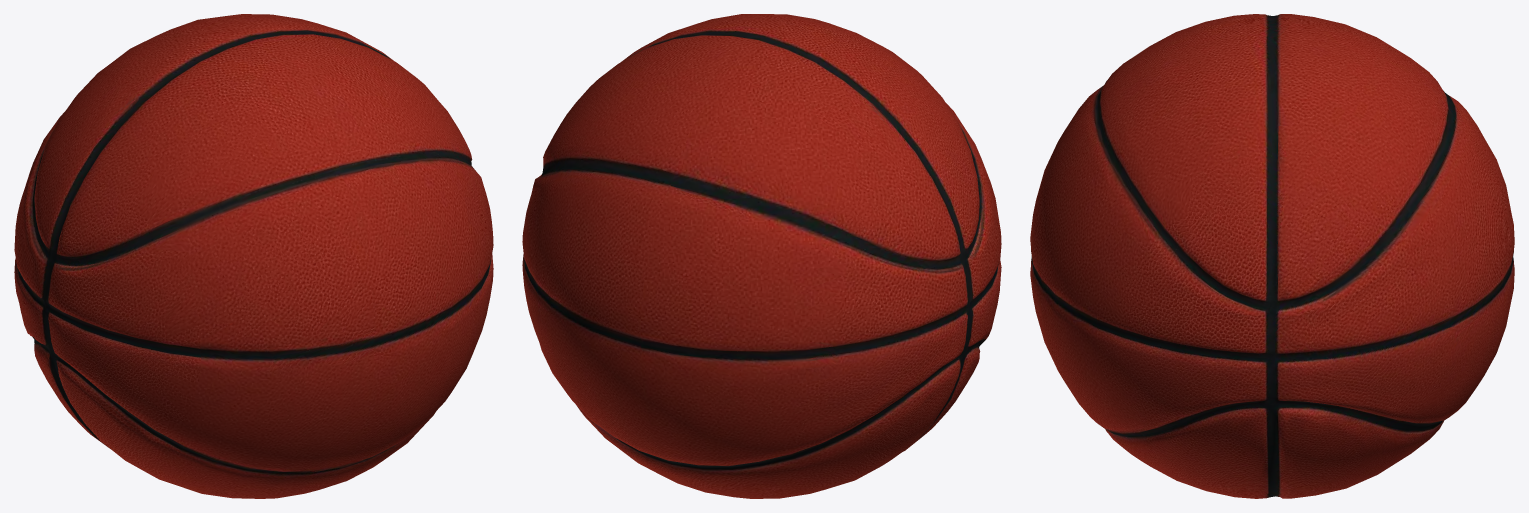
Rendered from basketball_v01.optimized.glb.
3 views of the same model, side by side, from view 1: azimuth 30°, elevation 25°; view 2: azimuth 150°, elevation 25°; view 3: azimuth 270°, elevation 25° (orthographic).
Visible parts, largest first — view 1: tripo_node_14c27bb3-902f-4d5b-8f02-68514402f7fe; view 2: tripo_node_14c27bb3-902f-4d5b-8f02-68514402f7fe; view 3: tripo_node_14c27bb3-902f-4d5b-8f02-68514402f7fe.
Part boxes in pixels (x1,y1,x2,y2): tripo_node_14c27bb3-902f-4d5b-8f02-68514402f7fe: (14, 14, 493, 498); tripo_node_14c27bb3-902f-4d5b-8f02-68514402f7fe: (522, 14, 1001, 498); tripo_node_14c27bb3-902f-4d5b-8f02-68514402f7fe: (1030, 14, 1514, 498).
Size of the model in its own units: 0.998 by 0.998 by 0.9941.
1 material, 1 textured.
